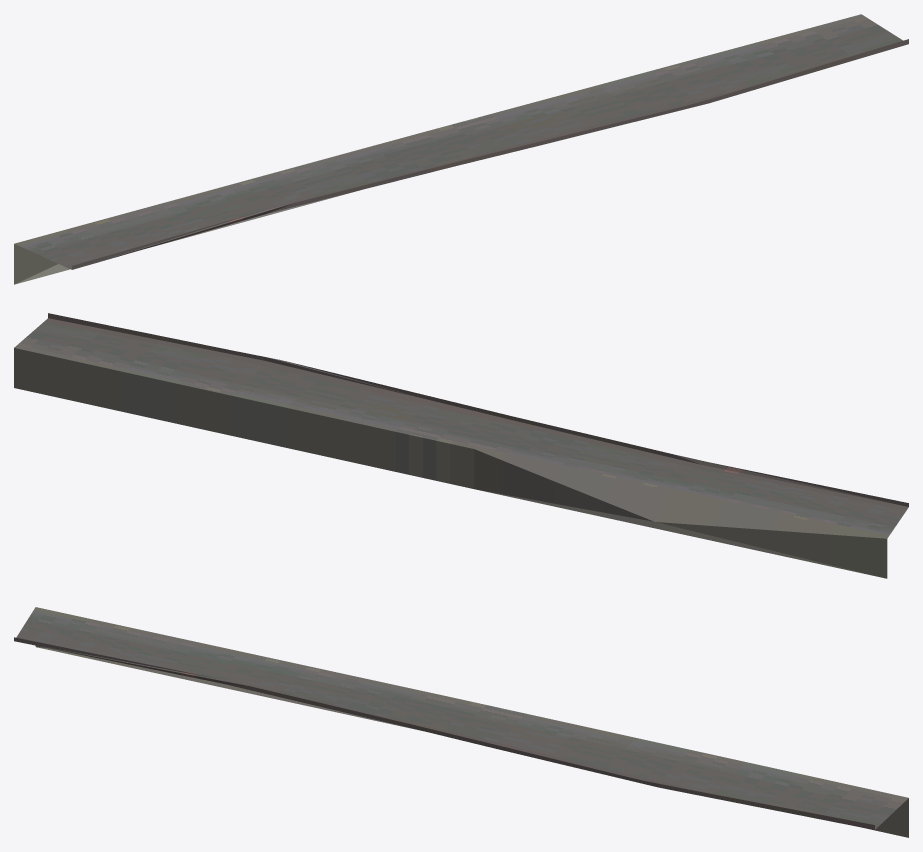
File: lodroads_sfw38.obj
The picture shows the model from 3 angles, top to bottom: view 1: azimuth 30°, elevation 25°; view 2: azimuth 150°, elevation 25°; view 3: azimuth 330°, elevation 25°; orthographic projection. The views are drawn at different scales.
Parts seen in each view (by area): view 1: LODroads_sfw38; view 2: LODroads_sfw38; view 3: LODroads_sfw38.
Part boxes in pixels (<box>): LODroads_sfw38: <box>14,14,908,284</box>; LODroads_sfw38: <box>14,313,908,578</box>; LODroads_sfw38: <box>14,607,908,837</box>.
Size of the model in its own units: 107 by 5.26 by 13.45.
1 material, 1 textured.
